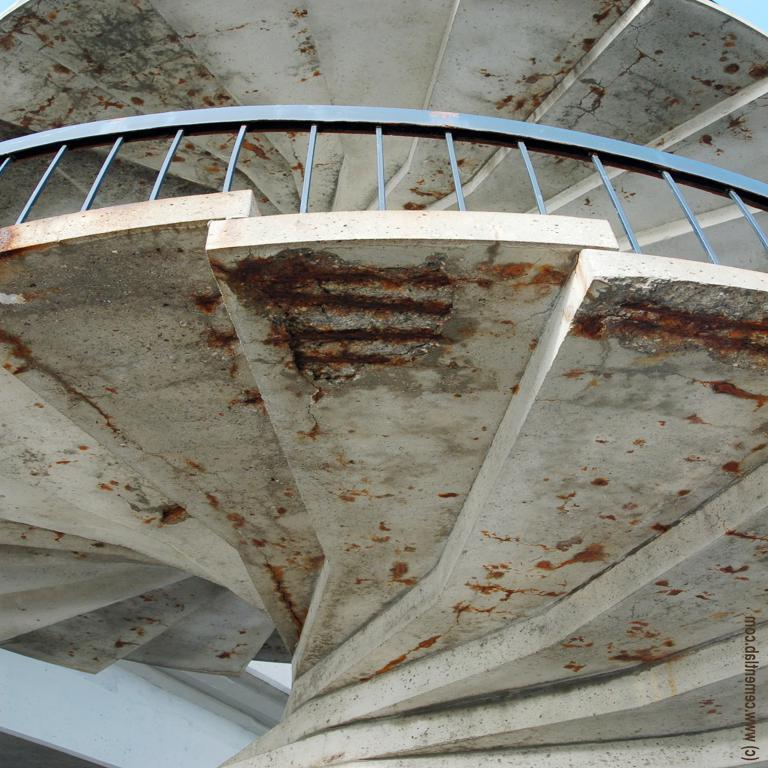crack: (37, 363, 122, 436), (502, 290, 561, 334), (127, 439, 178, 470), (296, 383, 324, 437)
damage: (211, 247, 454, 384), (572, 277, 768, 374), (157, 504, 190, 526)
